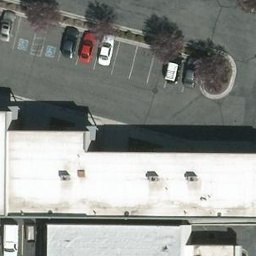car: (1, 10, 20, 42), (61, 27, 80, 59), (78, 31, 97, 63), (96, 32, 115, 64), (164, 51, 183, 83), (181, 55, 200, 87)
